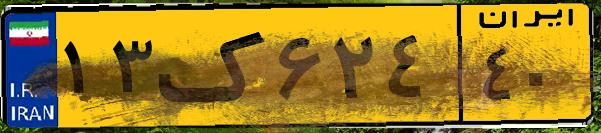0: (525, 38, 570, 115)
1: (57, 26, 110, 100)
2: (330, 28, 385, 110)
3: (110, 28, 158, 98)
4: (385, 28, 445, 110), (475, 38, 525, 113)
6: (270, 28, 330, 110)
ک: (158, 12, 270, 120)
